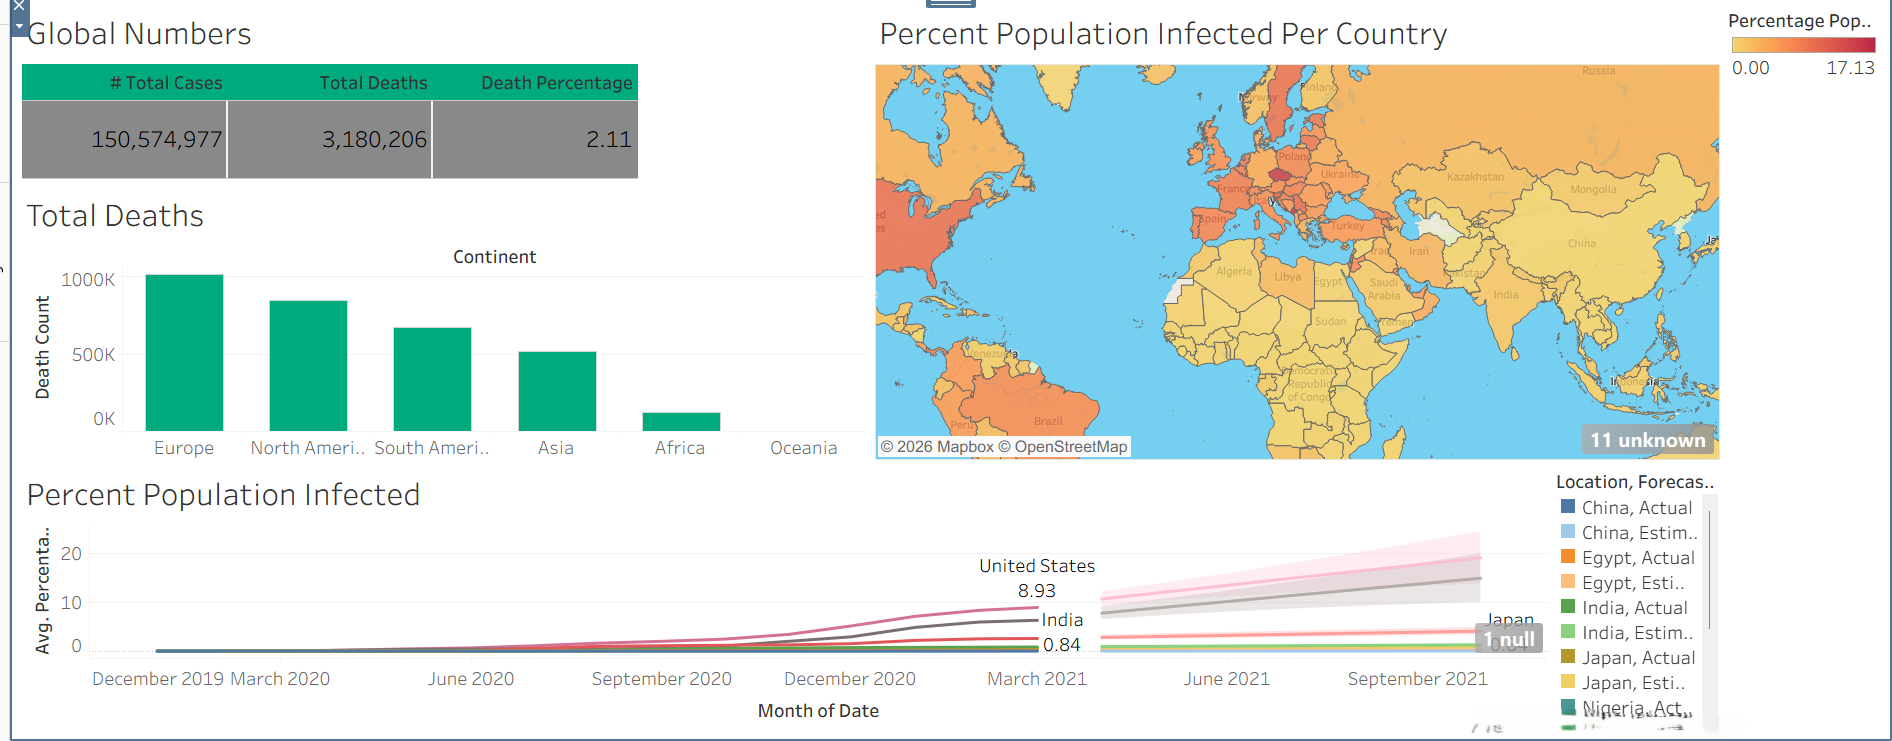

The page's visual inventory and layout, read from the dashboard file:
{"tool":"tableau","page":{"name":"Dashboard 1","canvas":[1000,1000],"units":"permille","ordinal":0},"visuals":[{"type":"worksheet","title":"Sheet 1","mark":"Automatic","box":[5,10.7,445.1,244.6]},{"type":"worksheet","title":"Sheet 3","mark":"Automatic","box":[450.1,10.7,445.1,618]},{"type":"legend","title":"Sheet 3","param":"[federated.18md2re1pz084f1b88her18s3re4].[sum:PercentagePopulationInfected:qk]","box":[895.3,10.7,99.8,108.6]},{"type":"blank","box":[895.3,119.3,99.8,870]},{"type":"worksheet","title":"Sheet 2","mark":"Automatic","rows":["TotalDeathCount"],"cols":["location"],"box":[5,255.4,445.1,373.3]},{"type":"worksheet","title":"Sheet 4","mark":"Automatic","rows":["PercentagePopulationInfected"],"cols":["date"],"box":[5,628.7,800.5,360.6]},{"type":"legend","title":"Sheet 4","param":"[federated.18cxza81p3pp1p1340c5r1usuoyc].[none:location:nk]\n[federated.18cxza81p","box":[805.5,628.7,89.8,360.6]}]}

Visuals, with their boxes on the dashboard's canvas, which has no fixed pixel size, in thousandths of its width and height (x1, y1, x2, y2). These are canvas units, not pixel positions in the 1892x741 screenshot, which may show the page scaled, cropped or inside an application window:
"Sheet 1" worksheet: (5, 11, 450, 255)
"Sheet 3" worksheet: (450, 11, 895, 629)
"Sheet 3" legend: (895, 11, 995, 119)
blank: (895, 119, 995, 989)
"Sheet 2" worksheet: (5, 255, 450, 629)
"Sheet 4" worksheet: (5, 629, 806, 989)
"Sheet 4" legend: (806, 629, 895, 989)
